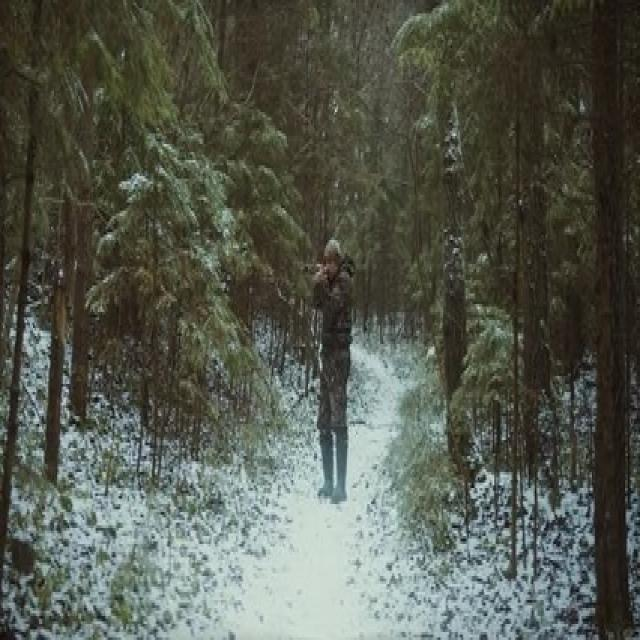Gun_Holder: (300, 262, 332, 281)
Person: (305, 237, 362, 517)
